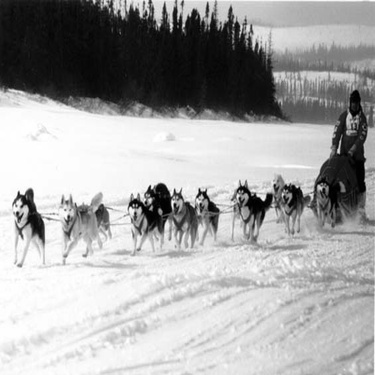dog: (58, 187, 109, 269), (7, 187, 49, 271), (124, 187, 163, 256), (236, 174, 272, 244), (168, 185, 201, 252), (143, 179, 176, 244), (283, 177, 311, 240), (230, 185, 259, 245), (266, 167, 296, 225), (312, 169, 339, 232), (78, 196, 113, 243), (195, 183, 220, 246), (149, 177, 174, 200)
